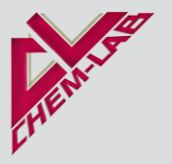ChemLab: (8, 11, 156, 156)
